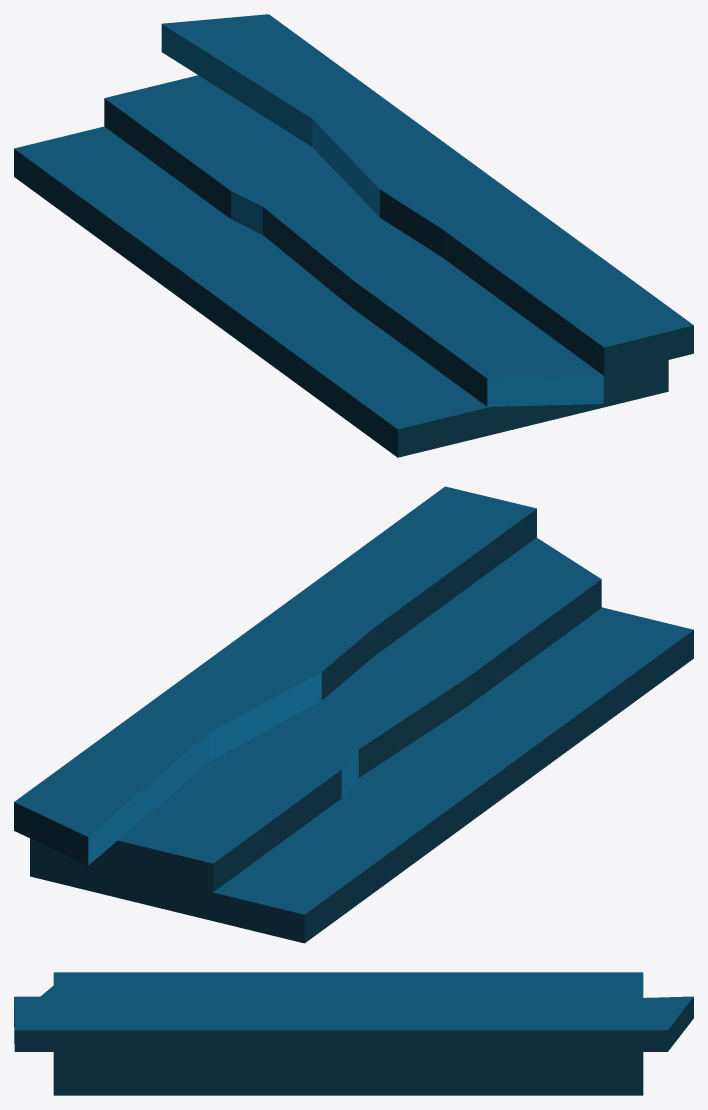
File: stair_type_03.fbx
3 views of the same model, one above another, from view 1: azimuth 30°, elevation 25°; view 2: azimuth 150°, elevation 25°; view 3: azimuth 270°, elevation 25° (orthographic). The views are drawn at different scales.
Visible parts, largest first — view 1: stair_type_03; view 2: stair_type_03; view 3: stair_type_03.
Boxes of the visible parts, x1,y1,x2,y2 form: stair_type_03: (14,14,693,457); stair_type_03: (14,486,693,943); stair_type_03: (14,972,693,1095).
Bounding box in the file's own units: 90 × 27 × 255.
